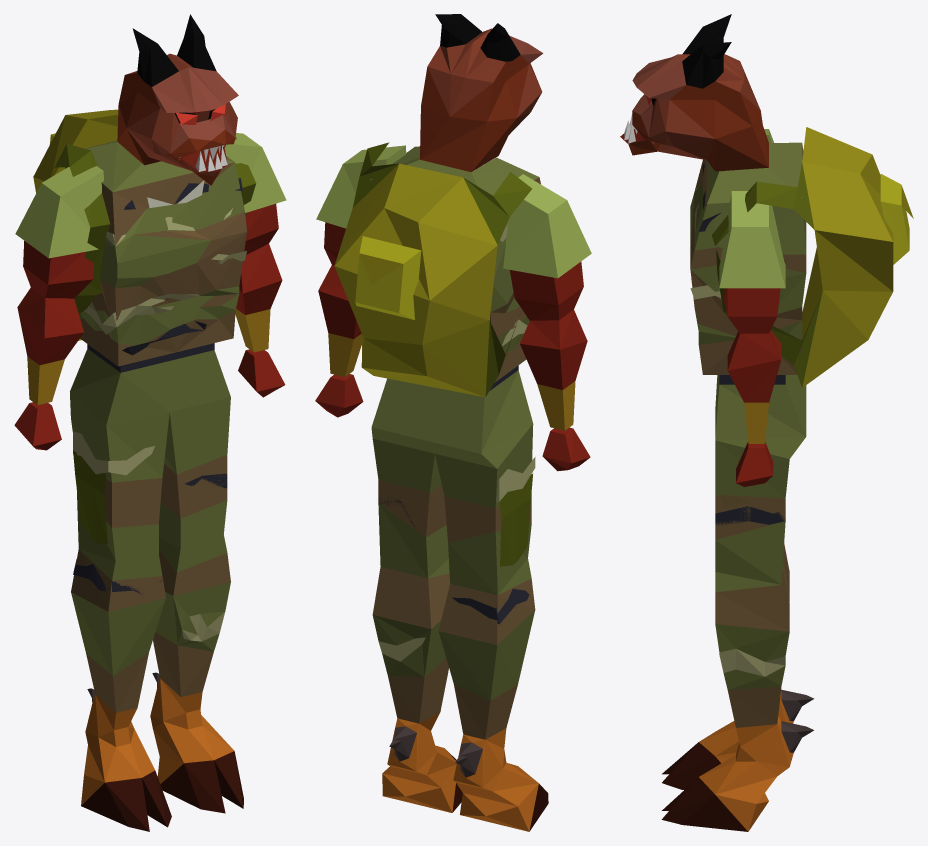
Rendered from sergeant_damien.glb.
The picture shows the model from 3 angles, left to right: view 1: azimuth 30°, elevation 25°; view 2: azimuth 150°, elevation 25°; view 3: azimuth 270°, elevation 25°; orthographic projection. The views are drawn at different scales.
Bounding box in the file's own units: 70 × 205 × 71.
1 material, 1 textured.
